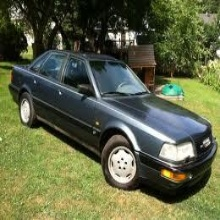no damage: (8, 48, 218, 200)
